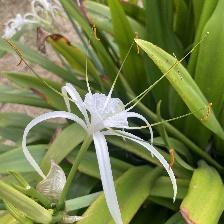spider lily: (59, 82, 183, 217)
